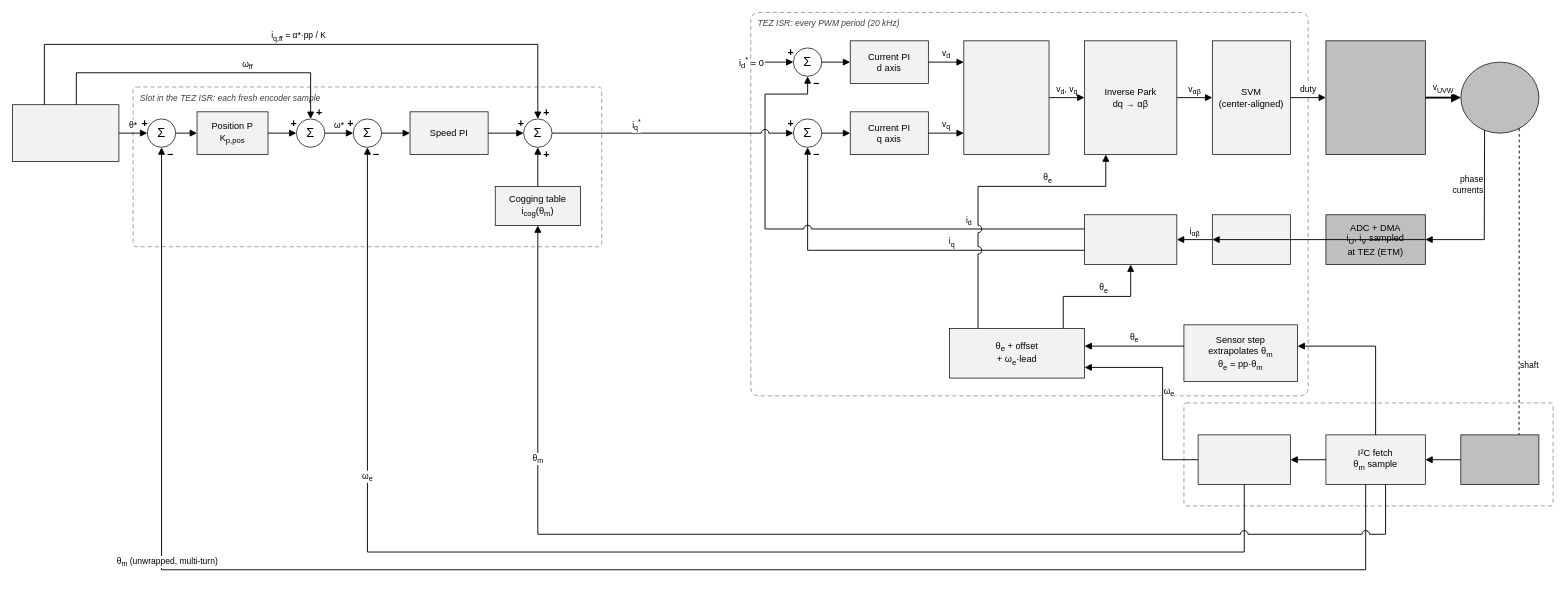
Image size: 1566x589. Some labels were removed from this diagram. Each missing label, with the box of its shape:
AS5600 encoder: (1460, 434, 1539, 485)
Clarke abc → αβ: (1212, 214, 1290, 264)
MCPWM + inverter 6 PWM, dead time: (1325, 40, 1425, 154)
Minimum-jerk trajectory (console: move, traj): (12, 104, 119, 162)
Park αβ → dq: (1084, 214, 1177, 264)
PLL ω e: (1197, 434, 1290, 485)
PMSM: (1460, 61, 1539, 133)
Supervisor task: encoder fetch and PLL update at 2.5 kHz: (1183, 402, 1553, 506)
Voltage limit |v dq | ≤ V dc /√3: (963, 40, 1049, 154)
